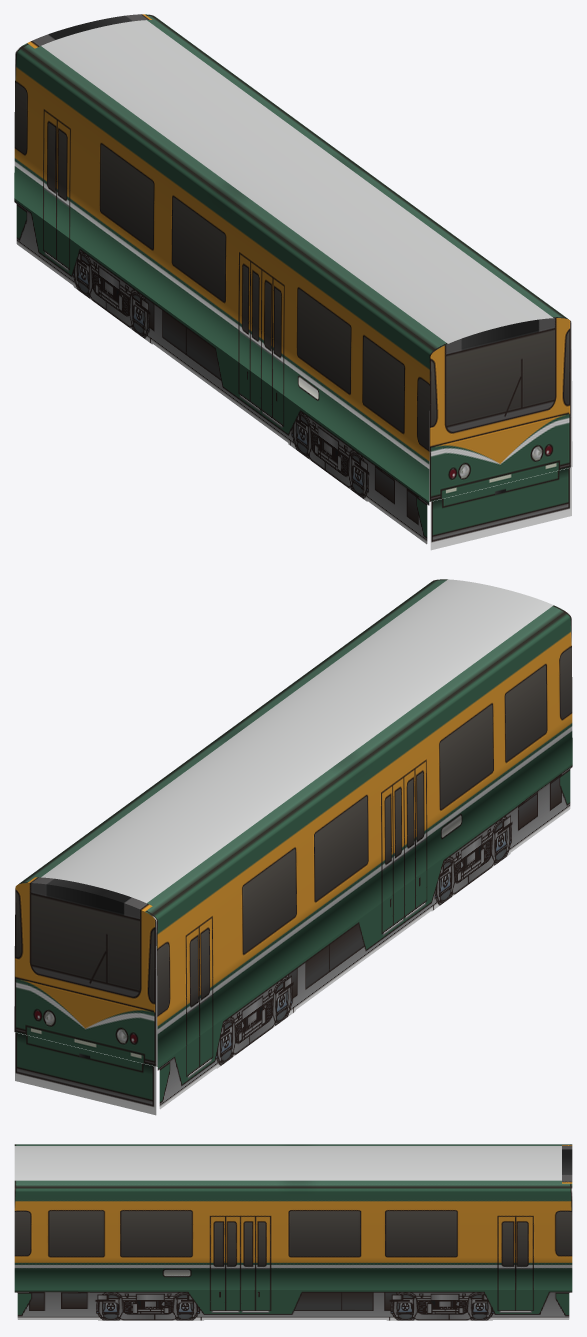
The model's file is car1.glb.
The picture shows the model from 3 angles, top to bottom: view 1: azimuth 30°, elevation 25°; view 2: azimuth 150°, elevation 25°; view 3: azimuth 270°, elevation 25°; orthographic projection. The views are drawn at different scales.
Parts seen in each view (by area): view 1: kagoshima9500; view 2: kagoshima9500; view 3: kagoshima9500.
Boxes of the visible parts, x1,y1,x2,y2 form: kagoshima9500: (14,14,572,550); kagoshima9500: (14,579,572,1115); kagoshima9500: (14,1144,572,1320).
Size of the model in its own units: 2.46 by 3.38 by 12.38.
Materials: 6 (4 with a texture image).
